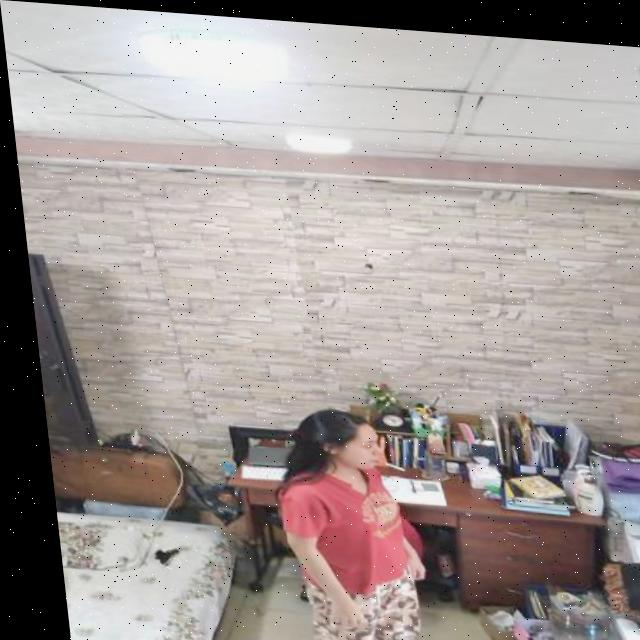cigarette: (368, 455, 396, 467)
